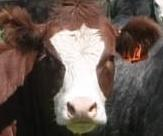muzzles: (55, 95, 107, 134)
